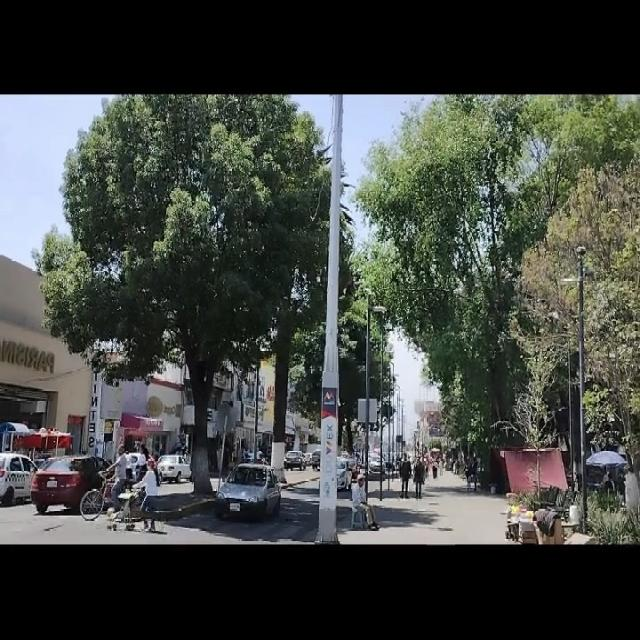adult: (132, 458, 161, 530), (102, 443, 127, 513), (352, 473, 379, 529), (398, 452, 412, 498), (413, 456, 423, 499)
